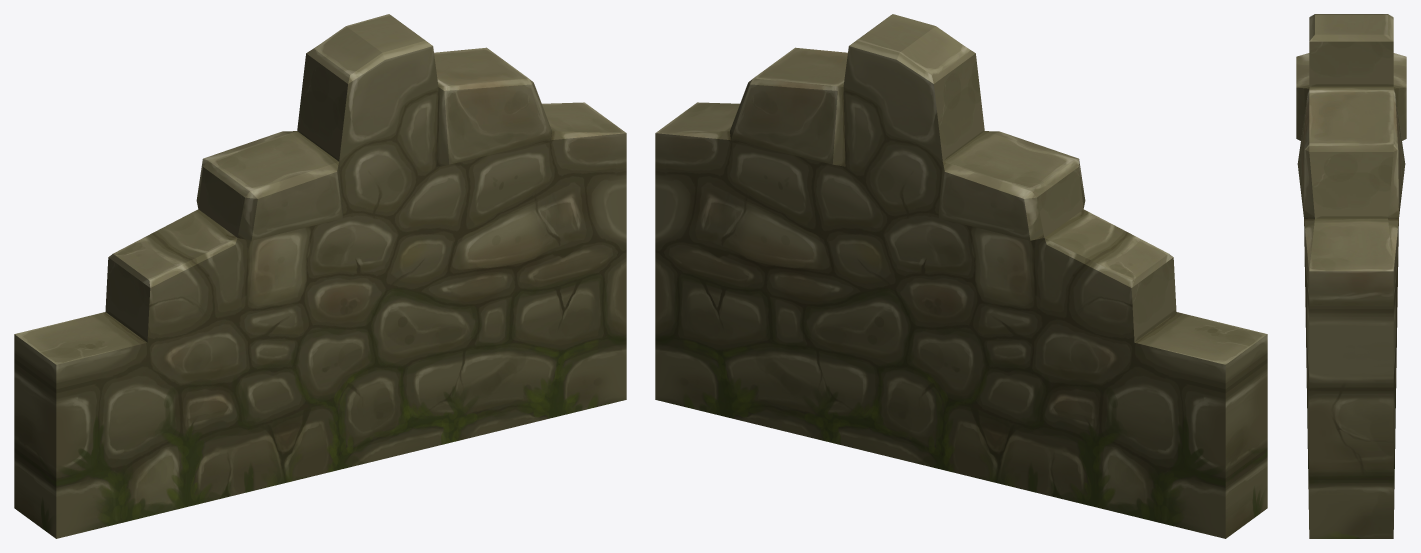
File: Wall_1.FBX
3 renders of one model, left to right at view 1: azimuth 30°, elevation 25°; view 2: azimuth 150°, elevation 25°; view 3: azimuth 270°, elevation 25°, orthographic.
Visible parts, largest first — view 1: Wall_1; view 2: Wall_1; view 3: Wall_1.
Part boxes in pixels (x1,y1,x2,y2): Wall_1: (14, 14, 626, 538); Wall_1: (655, 14, 1267, 538); Wall_1: (1296, 14, 1406, 538).
Size of what is drawn, in the model's own units: 500 by 83.49 by 340.
